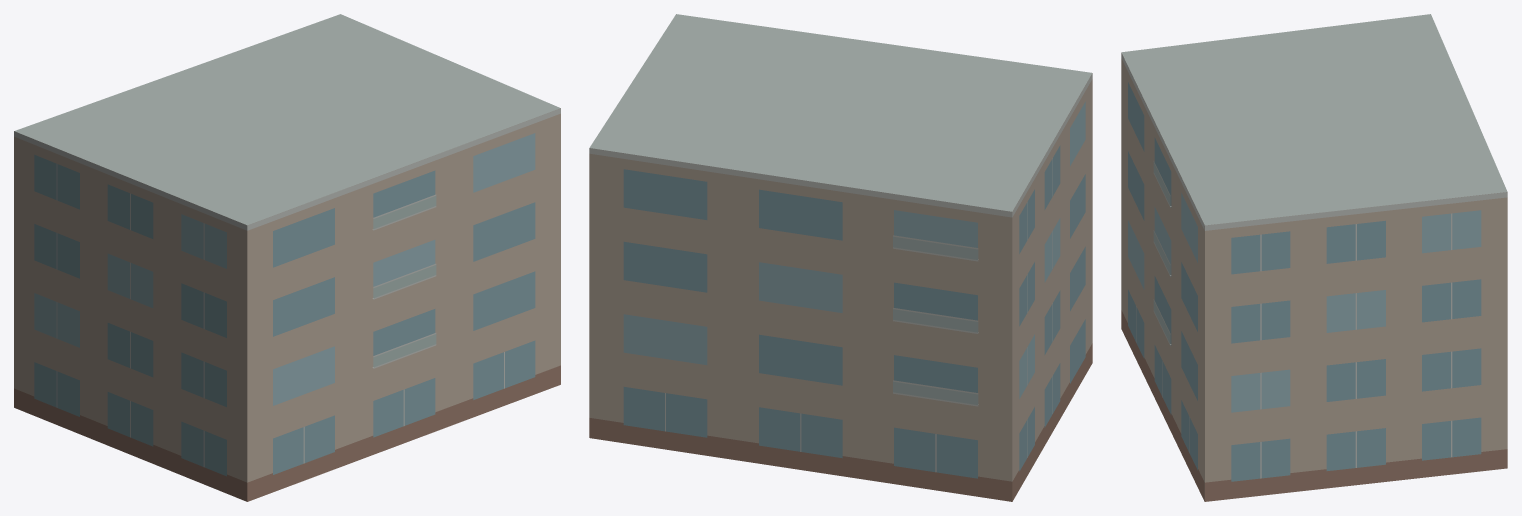
Rendered from survey-upis-32812555.glb.
3 renders of one model, left to right at view 1: azimuth 30°, elevation 25°; view 2: azimuth 150°, elevation 25°; view 3: azimuth 270°, elevation 25°, orthographic. The views are drawn at different scales.
Parts seen in each view (by area): view 1: survey-upis-32812555.tmp; view 2: survey-upis-32812555.tmp; view 3: survey-upis-32812555.tmp.
Boxes of the visible parts, box(x1,y1,x2,y2) form: survey-upis-32812555.tmp: box(14, 14, 560, 501); survey-upis-32812555.tmp: box(589, 14, 1092, 501); survey-upis-32812555.tmp: box(1121, 14, 1507, 501).
Size of the model in its own units: 20.27 by 12.35 by 15.65.
